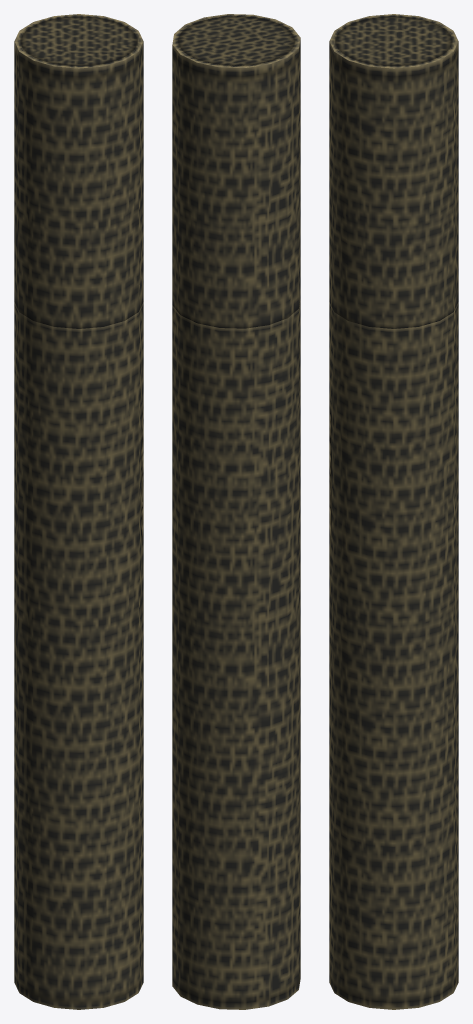
The model's file is set_diploma.fbx.
3 views of the same model, side by side, from view 1: azimuth 90°, elevation 25°; view 2: azimuth 210°, elevation 25°; view 3: azimuth 270°, elevation 25° (orthographic).
Parts seen in each view (by area): view 1: round_cylinder, round_cylinder_lid; view 2: round_cylinder, round_cylinder_lid; view 3: round_cylinder, round_cylinder_lid.
Part boxes in pixels (x1,y1,x2,y2): round_cylinder: (14, 302, 143, 1009); round_cylinder_lid: (14, 14, 143, 328); round_cylinder: (172, 299, 300, 1009); round_cylinder_lid: (172, 14, 300, 328); round_cylinder: (329, 302, 458, 1009); round_cylinder_lid: (329, 14, 458, 328).
Bounding box in the file's own units: 3.73 × 30 × 3.73.
